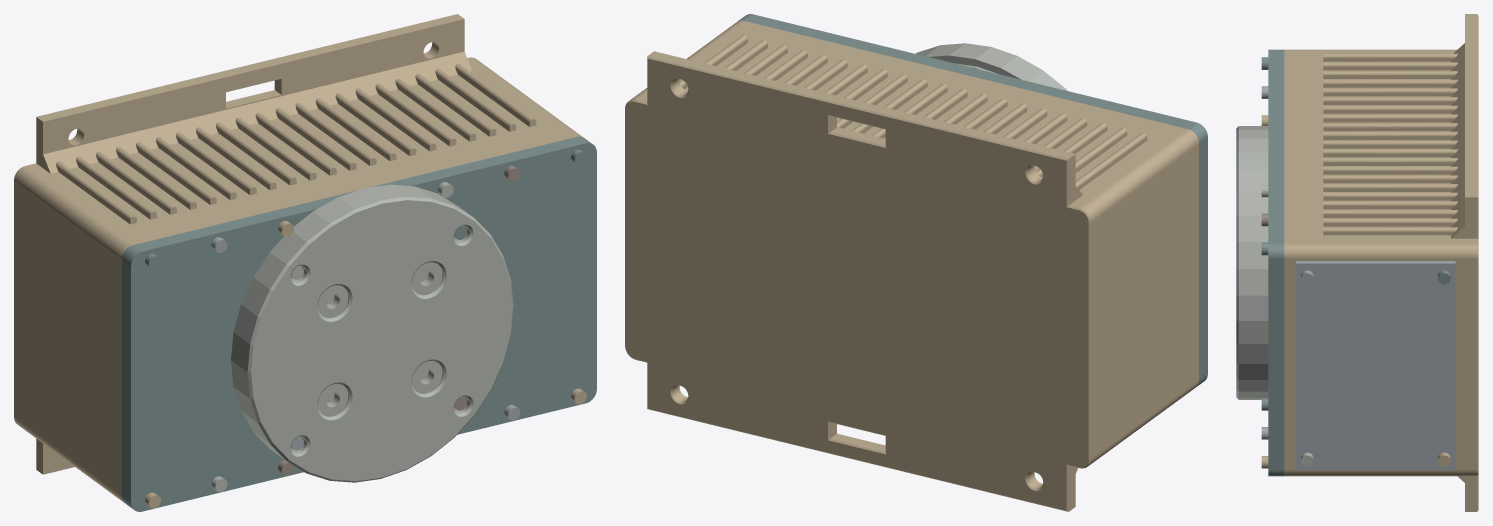
The model's file is sonous-echo-node.glb.
3 views of the same model, side by side, from view 1: azimuth 30°, elevation 25°; view 2: azimuth 150°, elevation 25°; view 3: azimuth 270°, elevation 25° (orthographic). The views are drawn at different scales.
Visible parts, largest first — view 1: part-1, part-2, part-3; view 2: part-1, part-2, part-3; view 3: part-1, part-4, part-3, part-2.
Part boxes in pixels (box(x1,y1,x2,y2)): part-1: box(14, 14, 582, 502); part-2: box(122, 136, 596, 511); part-3: box(231, 184, 513, 482); part-1: box(625, 20, 1198, 511); part-2: box(738, 14, 1207, 386); part-3: box(915, 43, 1067, 90); part-1: box(1284, 14, 1478, 511); part-4: box(1296, 261, 1455, 470); part-3: box(1236, 126, 1268, 399); part-2: box(1268, 49, 1284, 476).
Bounding box in the file's own units: 216 × 152 × 106.
